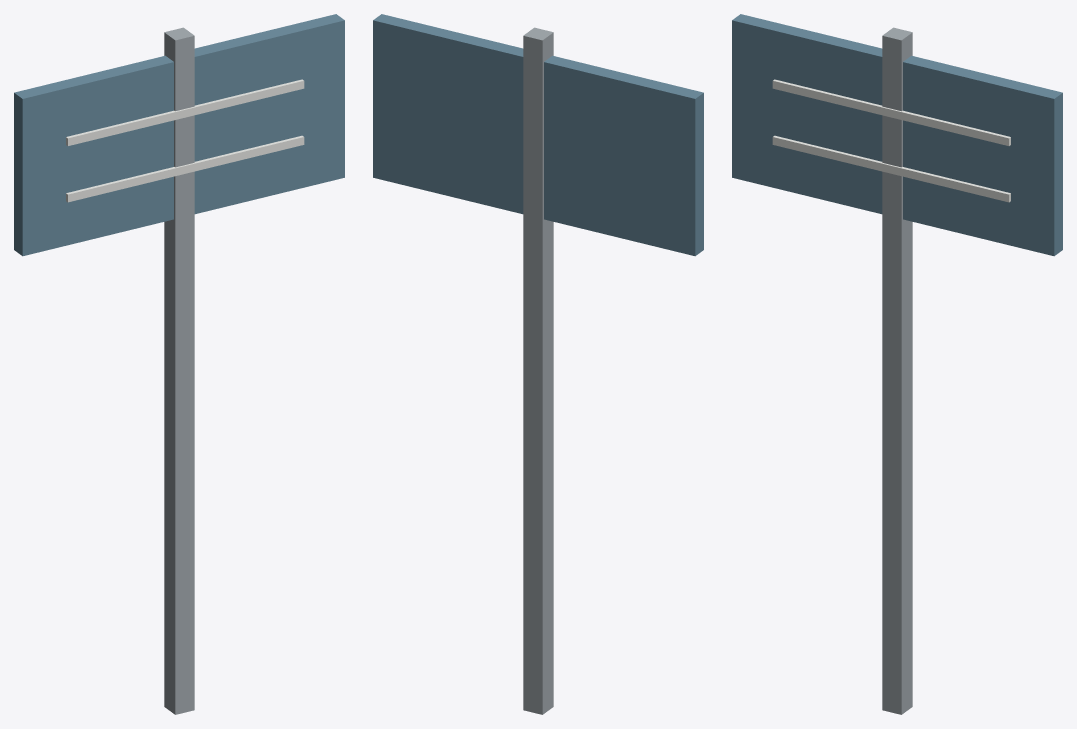
Rendered from long-haul-trucking-and-truck-stop-distance-sign-post-5701a3b5__13982.glb.
3 views of the same model, side by side, from view 1: azimuth 30°, elevation 25°; view 2: azimuth 150°, elevation 25°; view 3: azimuth 330°, elevation 25° (orthographic).
Visible parts, largest first — view 1: distance-sign-post; view 2: distance-sign-post; view 3: distance-sign-post.
Boxes of the visible parts, box(x1,y1,x2,y2) form: distance-sign-post: box(14, 14, 344, 714); distance-sign-post: box(373, 14, 703, 714); distance-sign-post: box(732, 14, 1062, 714).
Bounding box in the file's own units: 1.5 × 3 × 0.0976.
